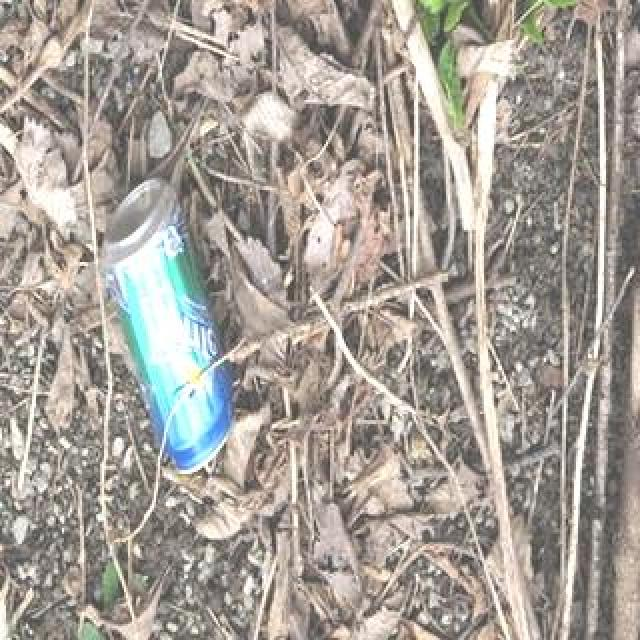Can: (90, 170, 232, 480)
